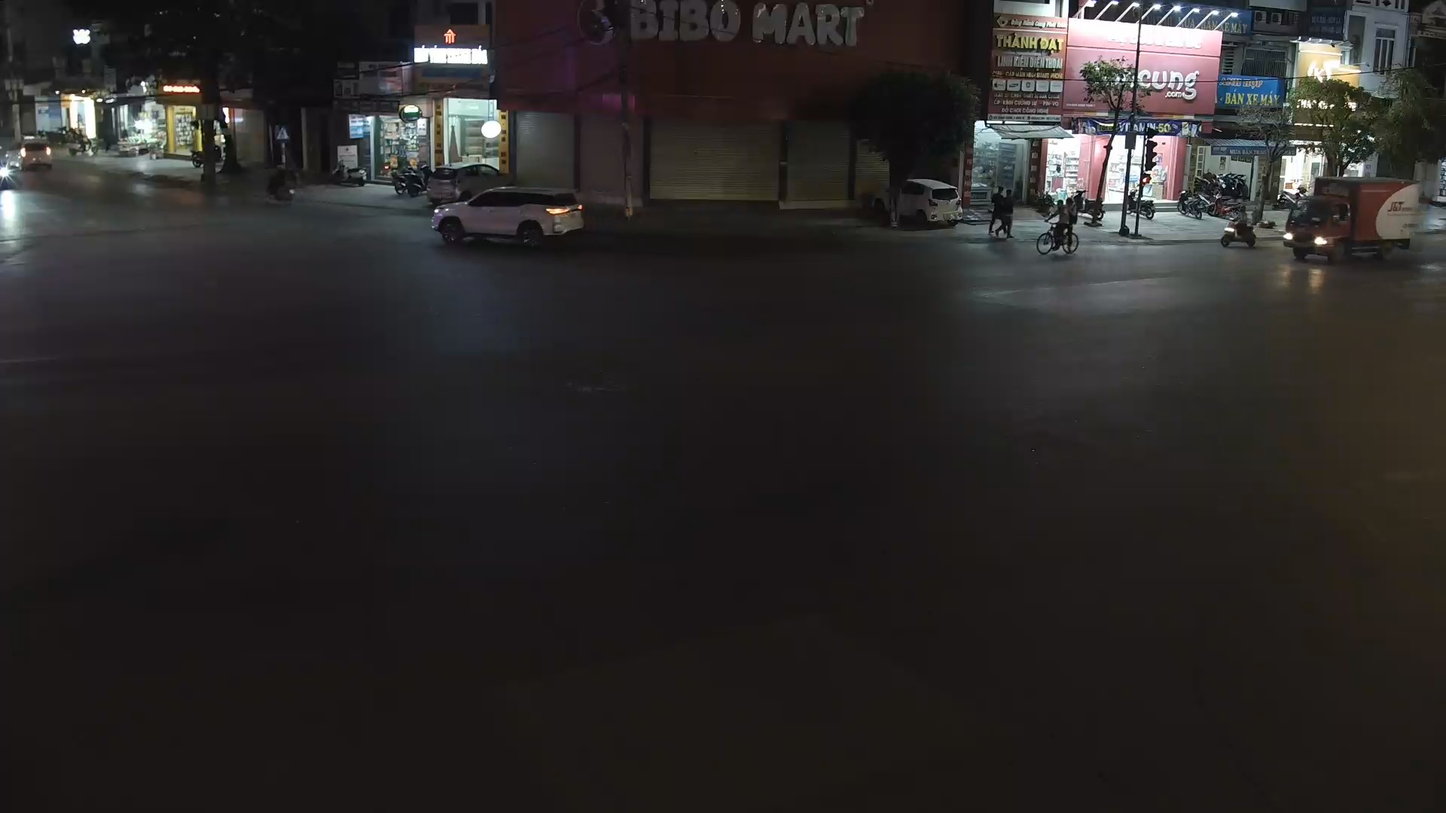car: (432, 186, 586, 251)
motorbike: (1034, 216, 1082, 259)
truck: (844, 62, 976, 230)
